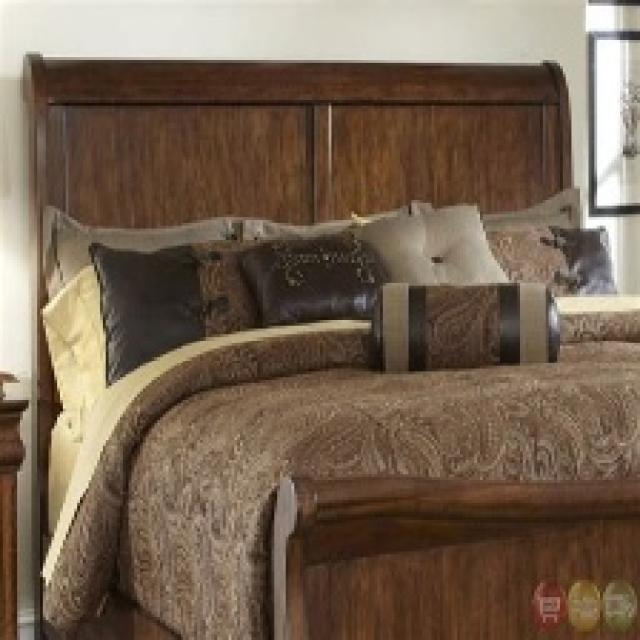Bed: (23, 49, 637, 637)
